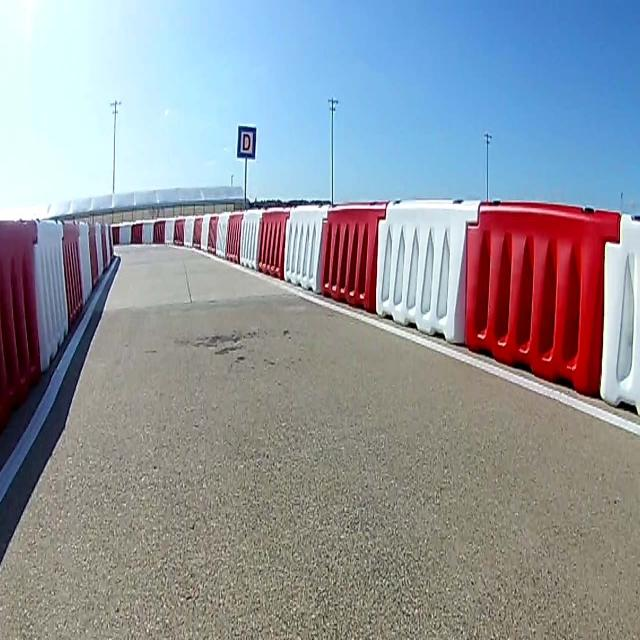durak: (238, 126, 256, 158)
